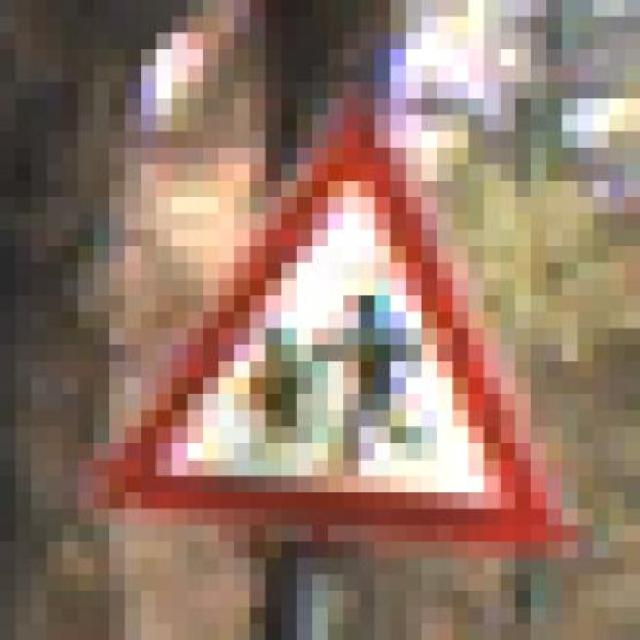Beware of children: (62, 82, 562, 575)
